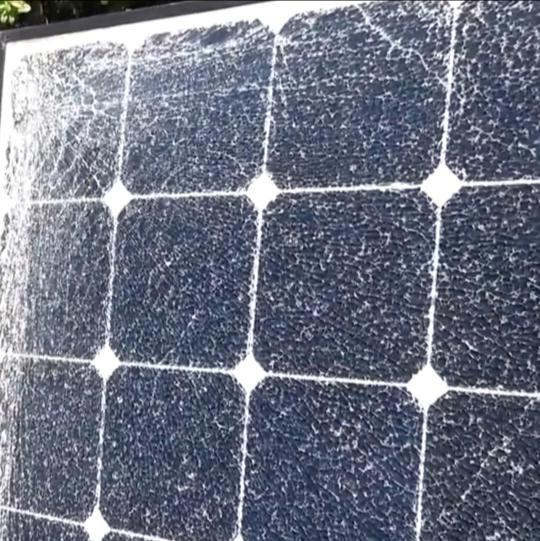Crack: (3, 54, 122, 208)
